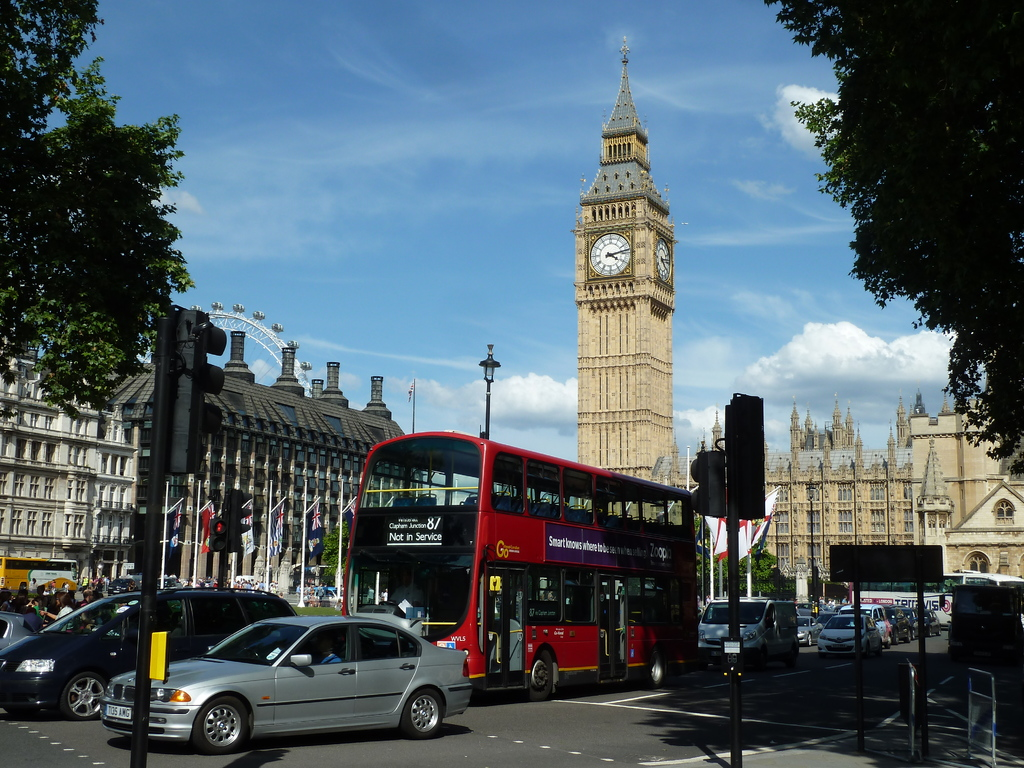Car: (96, 624, 449, 753), (0, 584, 295, 716), (797, 600, 942, 658), (0, 609, 32, 653), (302, 585, 351, 609)
